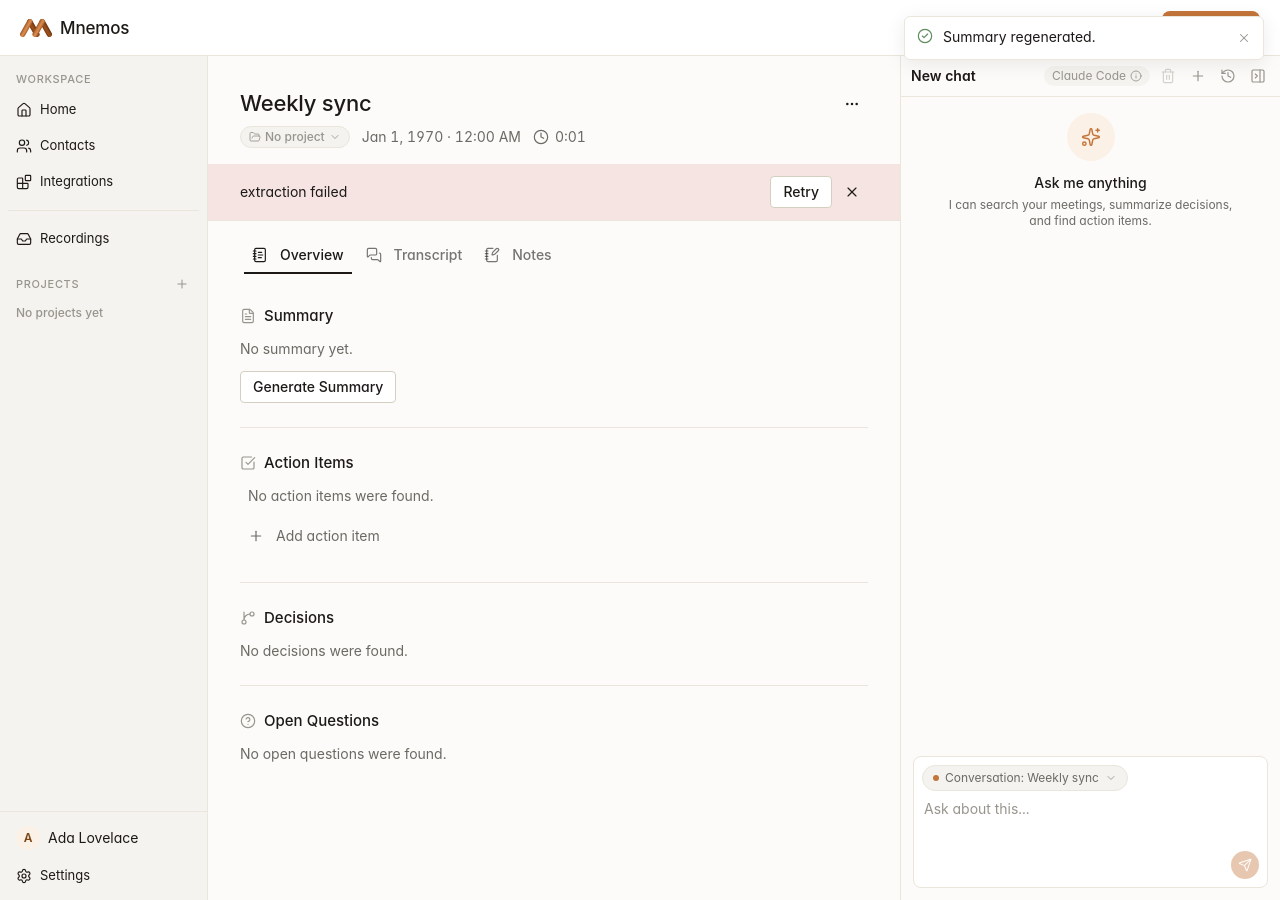
Scenario: /_app/conversation/$conversationId route › lets the failure banner be dismissed by hand, without waiting for a retry
Step 1. Click the button named "Dismiss" in the row of "extraction failed" → (852, 192), box [836,176,868,208]
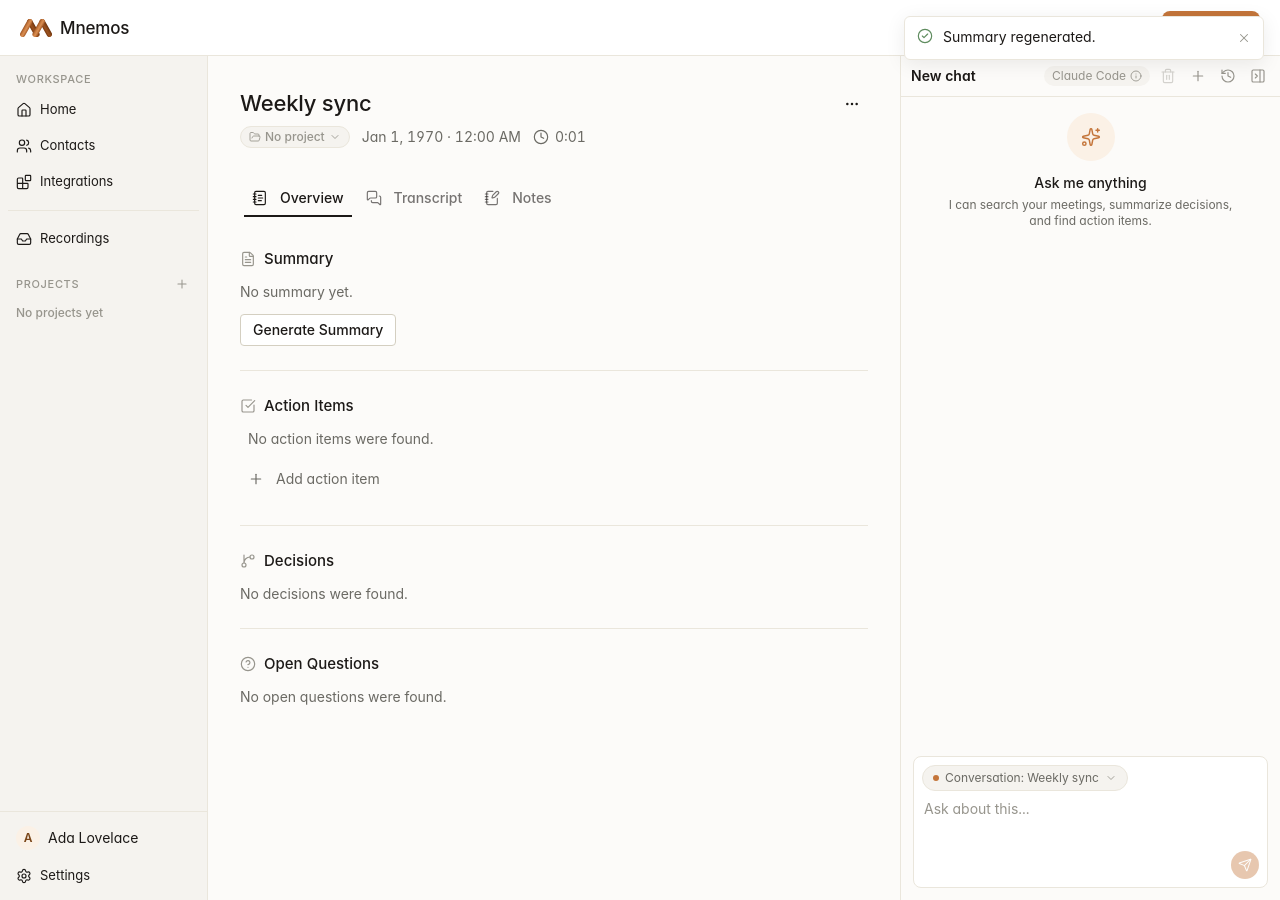
Check: the text "extraction failed" is gone
